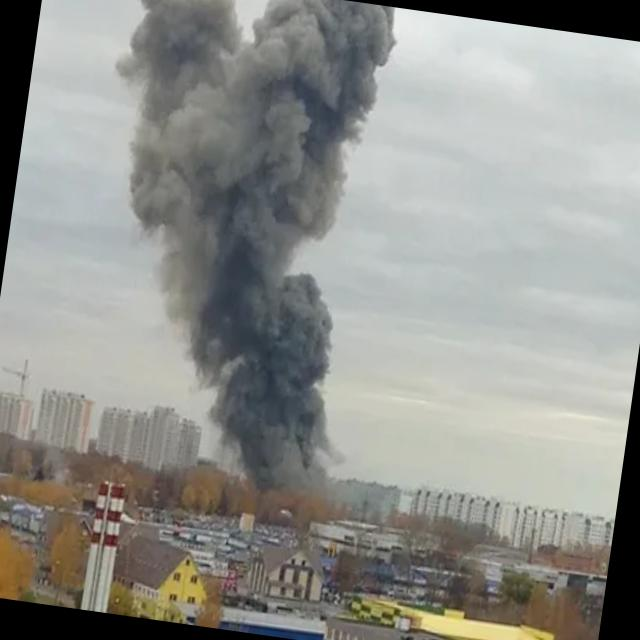Smoke: (59, 0, 411, 498)
